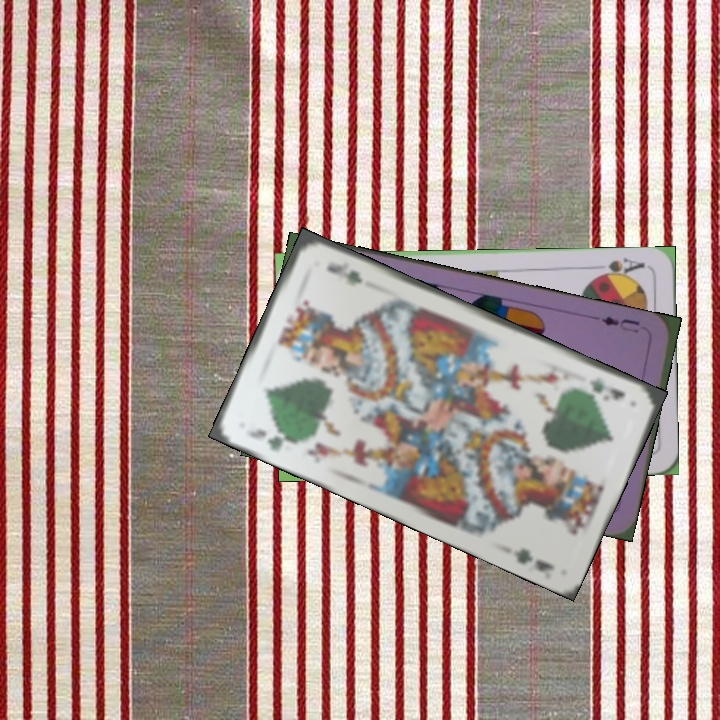EU: (597, 312, 643, 336)
GK: (242, 425, 298, 454), (586, 372, 627, 404)
SA: (590, 254, 648, 282)
